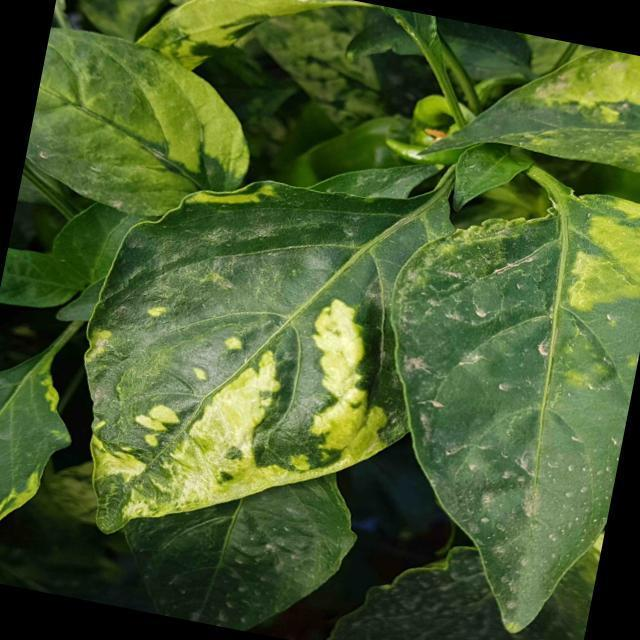Mosaic Virus: (47, 132, 450, 553), (408, 170, 640, 535), (22, 7, 286, 218), (411, 16, 640, 187), (0, 336, 93, 582)
